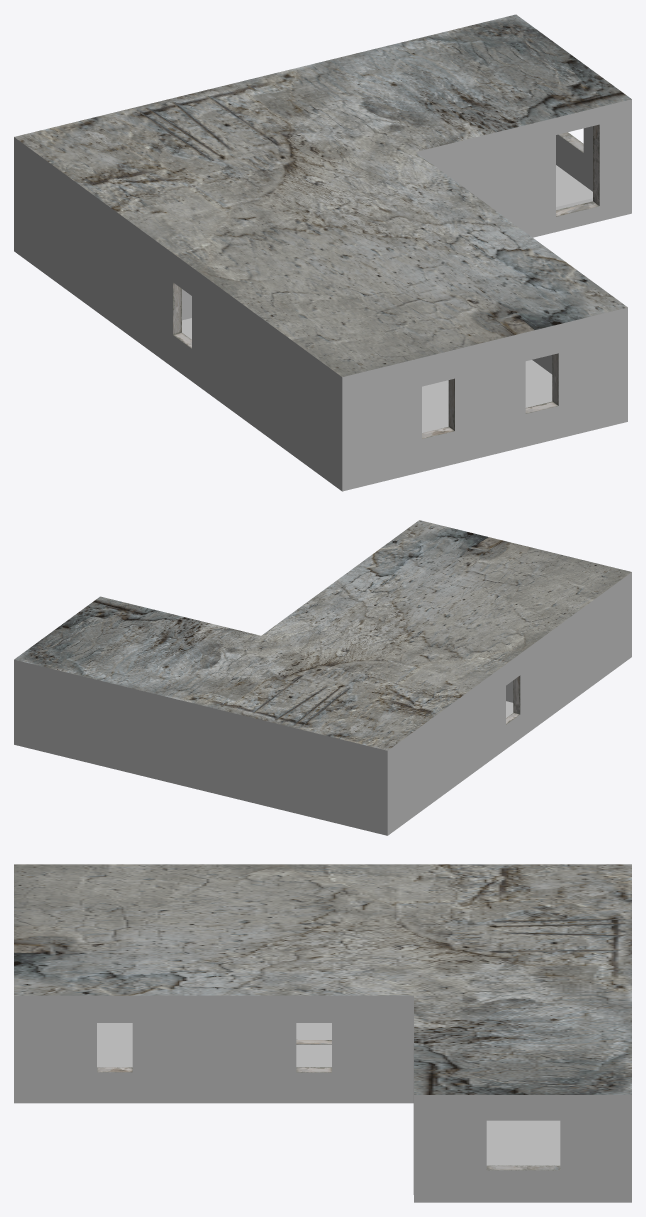
File: Corps_Form_02_10.FBX
The picture shows the model from 3 angles, top to bottom: view 1: azimuth 30°, elevation 25°; view 2: azimuth 150°, elevation 25°; view 3: azimuth 270°, elevation 25°; orthographic projection. The views are drawn at different scales.
Parts seen in each view (by area): view 1: Corps_02_10; view 2: Corps_02_10; view 3: Corps_02_10.
Part boxes in pixels (x1,y1,x2,y2): Corps_02_10: (14,14,631,491); Corps_02_10: (14,520,631,835); Corps_02_10: (14,864,631,1202).
Size of the model in its own units: 1425 by 1614 by 310.
